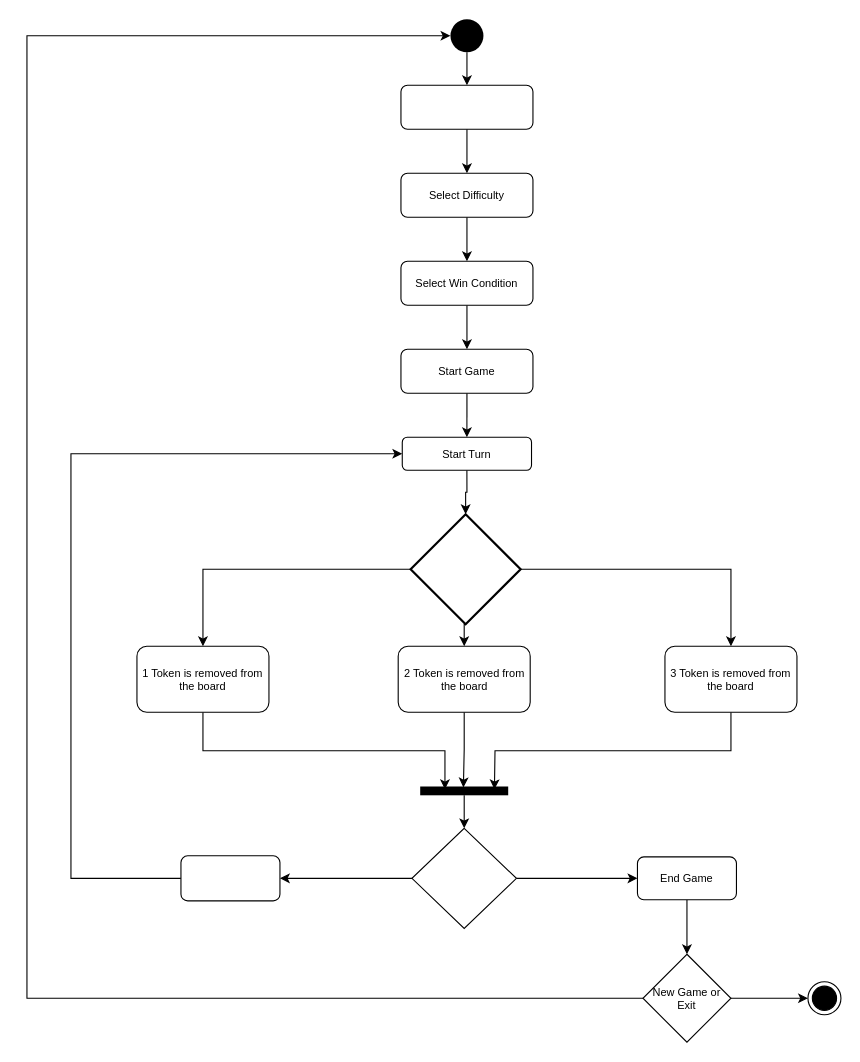
The diagram is 860 pixels wide and 1062 high, and some of its shapes have lost their labels. The shapes that lost their labels are listed below. From the top down, each one's centre as x and y in pixels, then its label:
pixel 466 106: Choose Opponent
pixel 465 569: Remove 1, 2, or 3 Tokens
pixel 230 878: End Turn
pixel 463 877: Was Last Piece Taken
